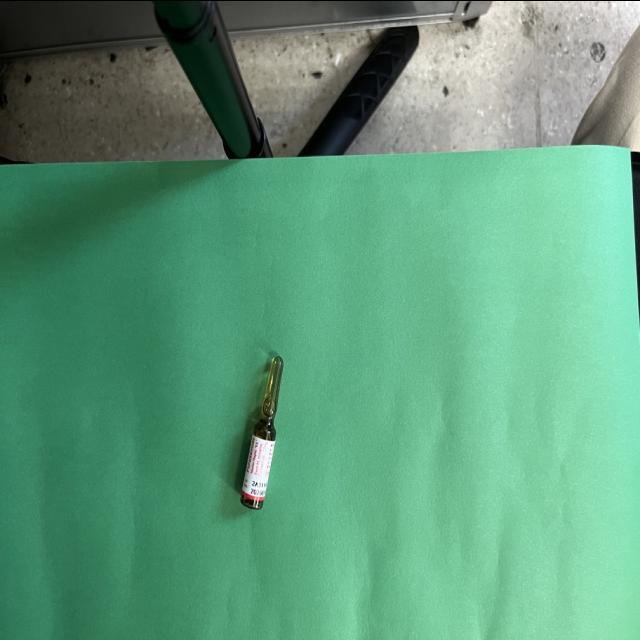Ampoules: (240, 355, 283, 508)
